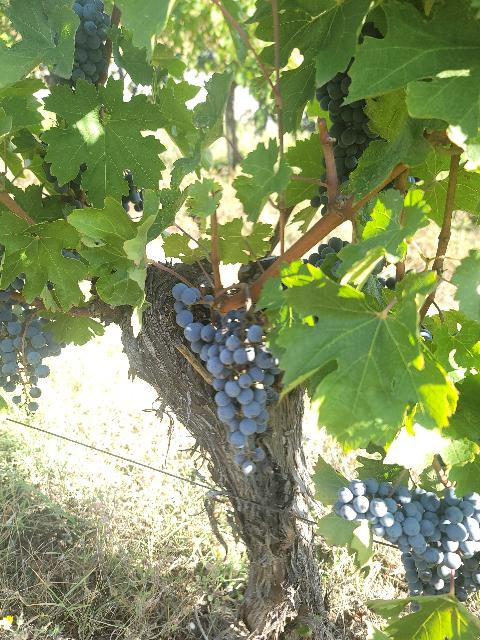grapes: (171, 282, 281, 475), (334, 478, 480, 595), (0, 306, 63, 411)
